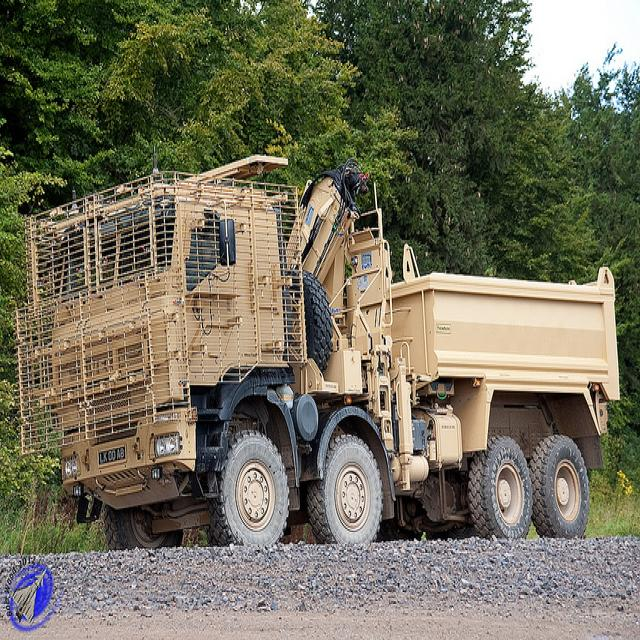Vehicle: (15, 154, 622, 551)
